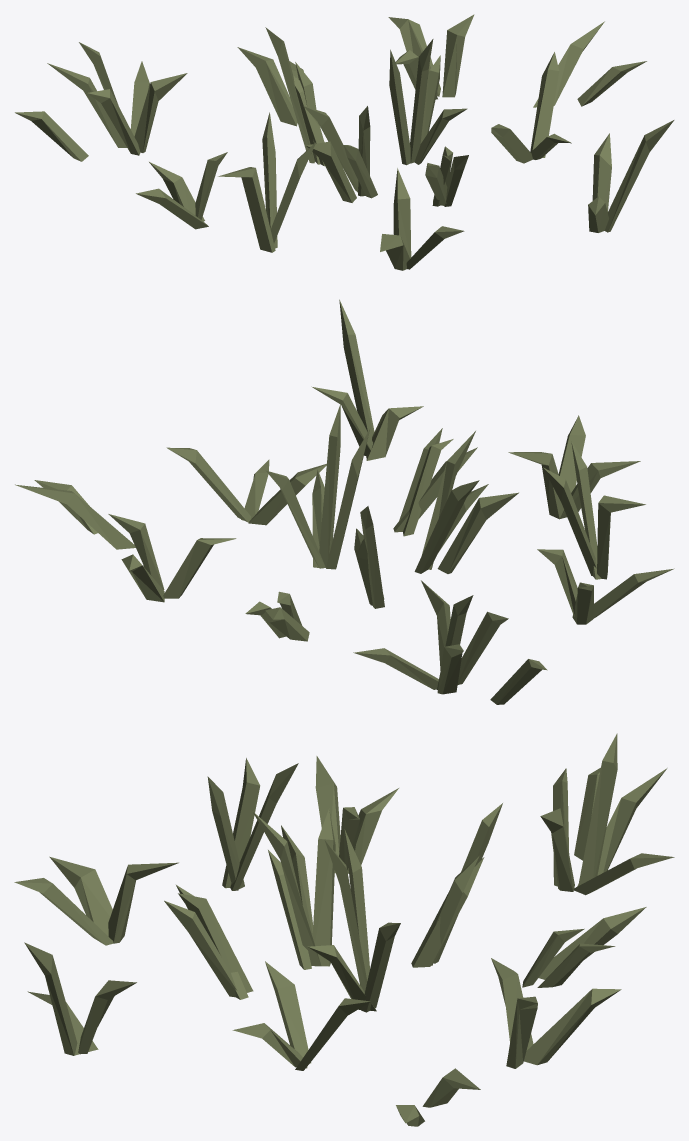
Rendered from city_SM_Env_Grass_Patch_01.gltf.
3 views of the same model, one above another, from view 1: azimuth 30°, elevation 25°; view 2: azimuth 150°, elevation 25°; view 3: azimuth 270°, elevation 25° (orthographic). The views are drawn at different scales.
Parts seen in each view (by area): view 1: SM_Env_Grass_Patch_01; view 2: SM_Env_Grass_Patch_01; view 3: SM_Env_Grass_Patch_01.
Part boxes in pixels (x1,y1,x2,y2): SM_Env_Grass_Patch_01: (15,14,674,270); SM_Env_Grass_Patch_01: (15,299,674,704); SM_Env_Grass_Patch_01: (14,733,674,1126).
Size of the model in its own units: 3.09 by 0.7256 by 2.57.
1 material, 1 textured.
